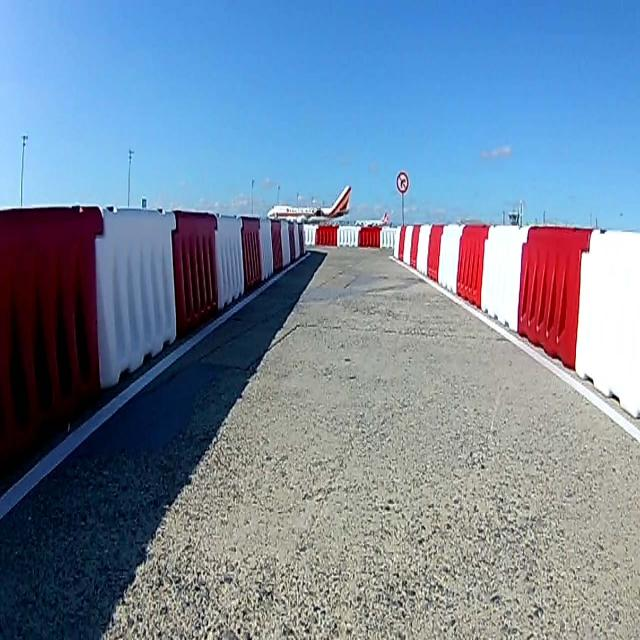sagadonulmez: (397, 172, 408, 192)
